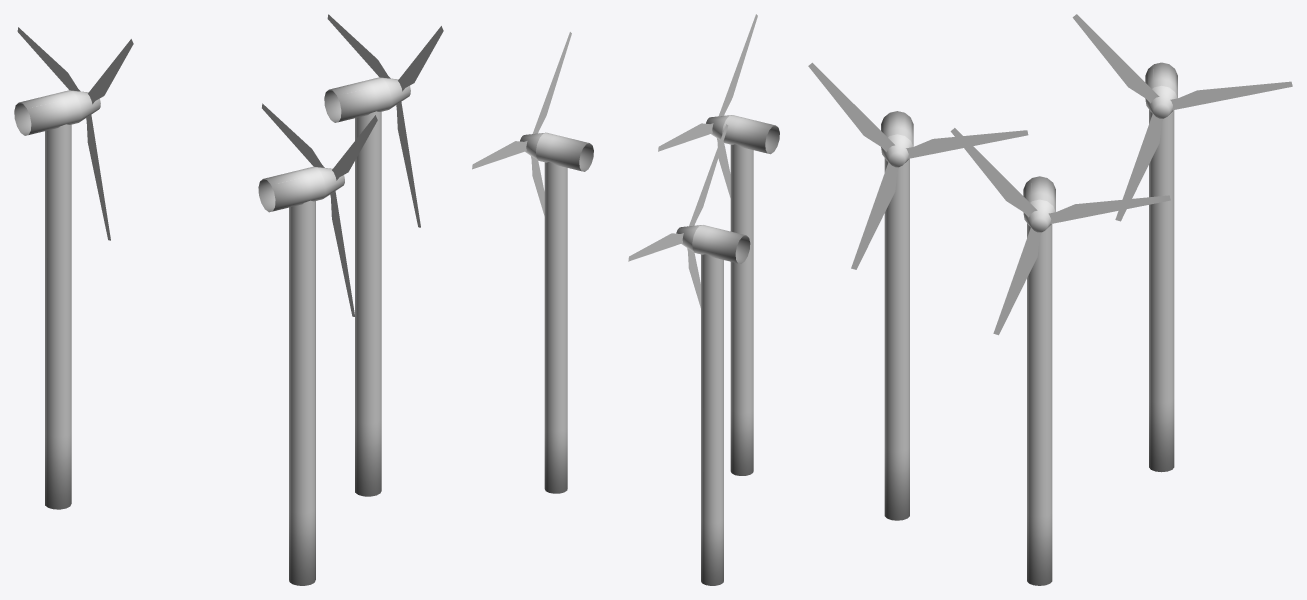
Rendered from windmill.fbx.
3 views of the same model, side by side, from view 1: azimuth 30°, elevation 25°; view 2: azimuth 150°, elevation 25°; view 3: azimuth 270°, elevation 25° (orthographic). The views are drawn at different scales.
Visible parts, largest first — view 1: pCylinder11, pCylinder3, pCylinder9, pCylinder4, pCylinder10, pCylinder12, pCube16, pCube13, pCube4, pCube14, pCube17, pCube5 (+3 smaller); view 2: pCylinder9, pCylinder11, pCylinder3, pCylinder10, pCylinder12, pCylinder4, pCube5, pCube14, pCube17, pCube6, pCube15, pCube18; view 3: pCylinder9, pCylinder3, pCylinder11, pCylinder4, pCylinder10, pCylinder12, pCube17, pCube18, pCube15, pCube5, pCube14, pCube13 (+3 smaller).
Boxes of the visible parts, x1,y1,x2,y2 form: pCylinder11: (45, 124, 71, 509); pCylinder3: (289, 200, 315, 585); pCylinder9: (355, 111, 381, 496); pCylinder4: (258, 166, 344, 212); pCylinder10: (324, 77, 410, 122); pCylinder12: (14, 90, 100, 135); pCube16: (86, 114, 110, 240); pCube13: (396, 101, 420, 227); pCube4: (330, 191, 355, 316); pCube14: (398, 26, 443, 91); pCube17: (88, 39, 133, 104); pCube5: (332, 115, 377, 180); pCylinder9: (544, 162, 567, 493); pCylinder11: (701, 254, 723, 585); pCylinder3: (730, 144, 753, 475); pCylinder10: (520, 132, 593, 171); pCylinder12: (676, 225, 750, 263); pCylinder4: (706, 115, 779, 154); pCube5: (718, 14, 757, 116); pCube14: (532, 32, 571, 133); pCube17: (689, 124, 728, 226); pCube6: (658, 123, 713, 151); pCube15: (472, 141, 527, 169); pCube18: (628, 233, 683, 261); pCylinder9: (1027, 223, 1052, 585); pCylinder3: (884, 158, 909, 520); pCylinder11: (1149, 109, 1174, 472); pCylinder4: (881, 111, 913, 167); pCylinder10: (1023, 176, 1055, 232); pCylinder12: (1145, 62, 1177, 118); pCube17: (1072, 14, 1159, 103); pCube18: (1170, 81, 1292, 110); pCube15: (1048, 195, 1170, 223); pCube5: (808, 62, 894, 151); pCube14: (950, 128, 1037, 217); pCube13: (993, 227, 1041, 335).
Size of the model in its own units: 21.41 by 31.45 by 29.65.
